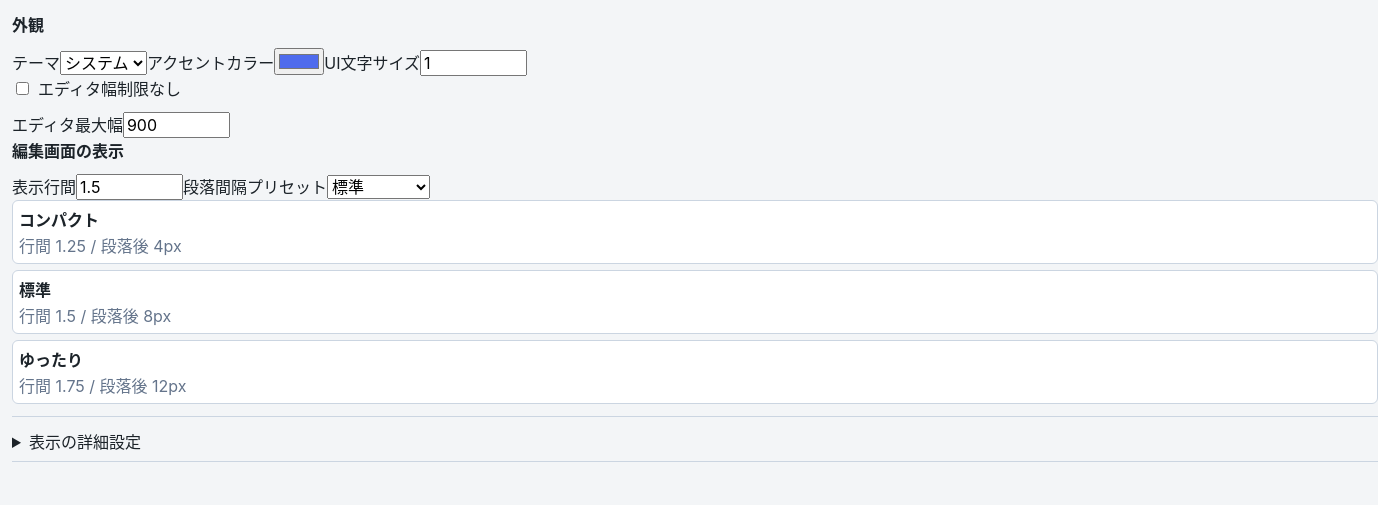
Scenario: AppearancePreferencesPanel › marks detailed spacing changes as custom
Click the heading "表示の詳細設定". click: (85, 442)
box: [29,432,141,452]
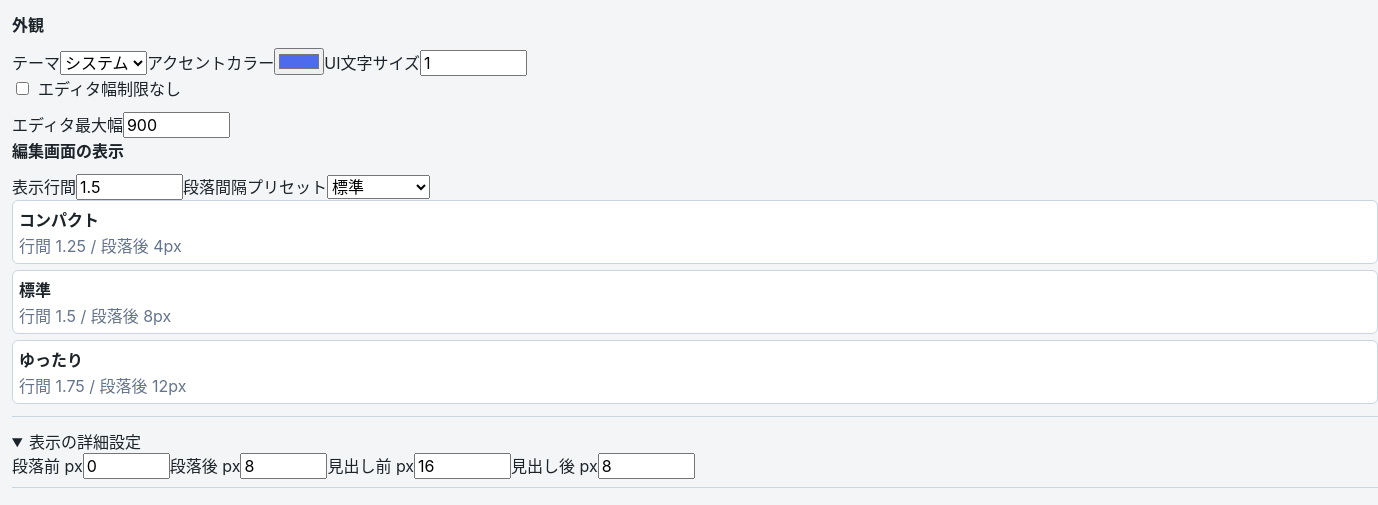
Replace the text in the number field labelled "段落後 px" with "18". click: (284, 466)
box: [240,453,327,479]
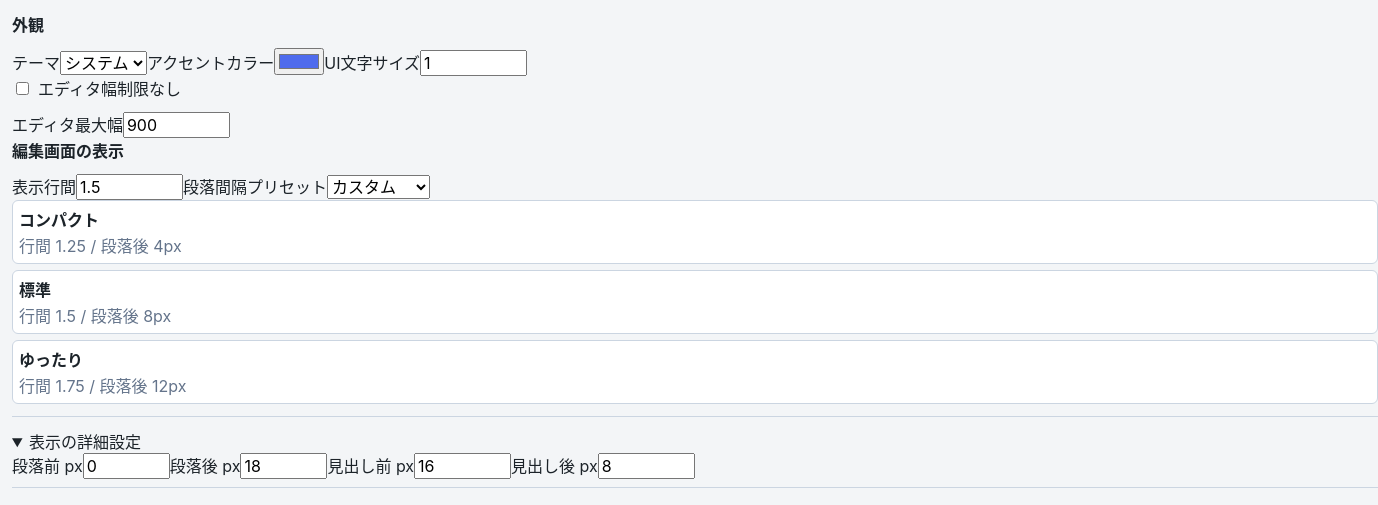
Result: the dropdown labelled "段落間隔プリセット" shows "カスタム" at [327,175,430,199]
